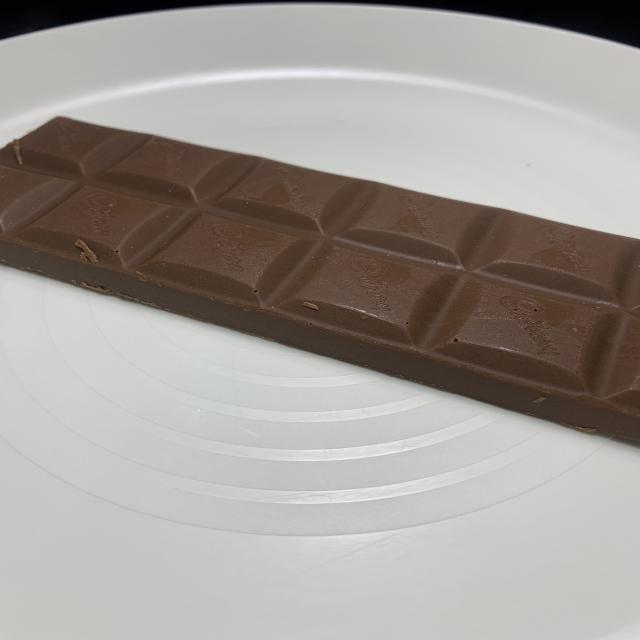Chocolate: (0, 113, 640, 452)
